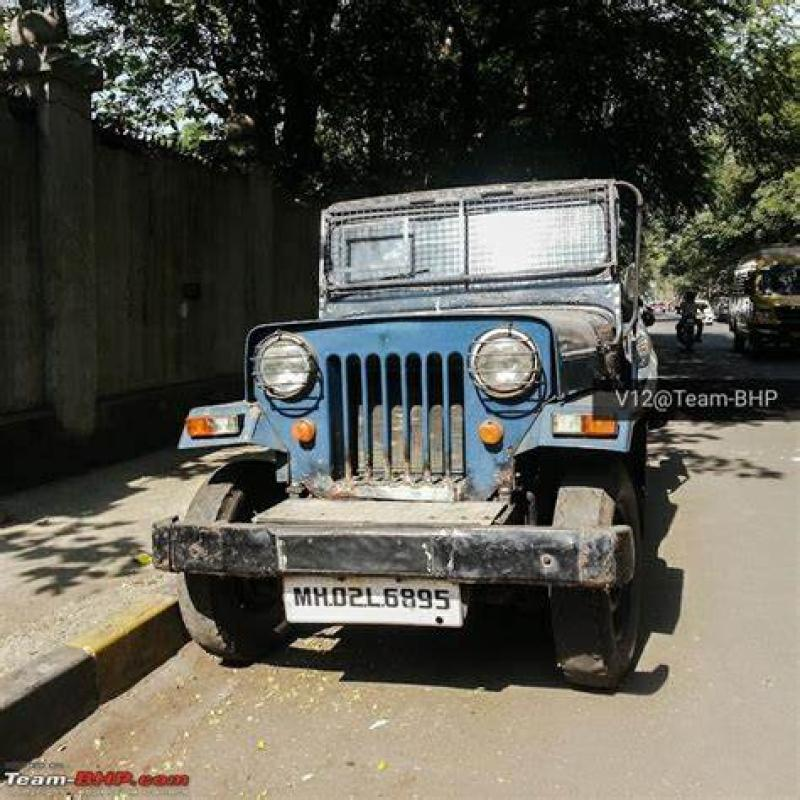car: (188, 170, 638, 726)
